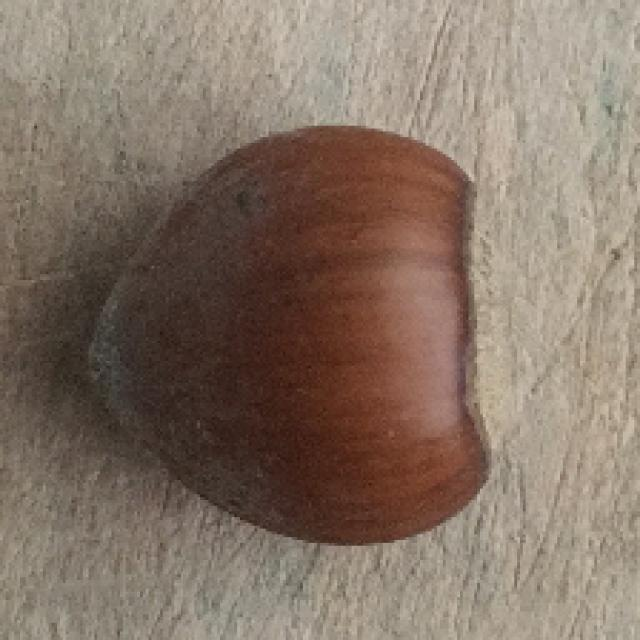qualityHazelnut: (89, 123, 504, 548)
